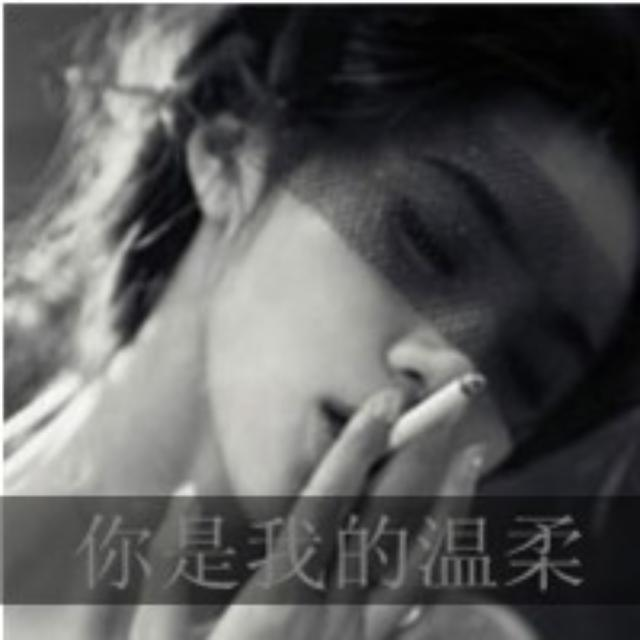Smoking: (390, 368, 486, 454)
